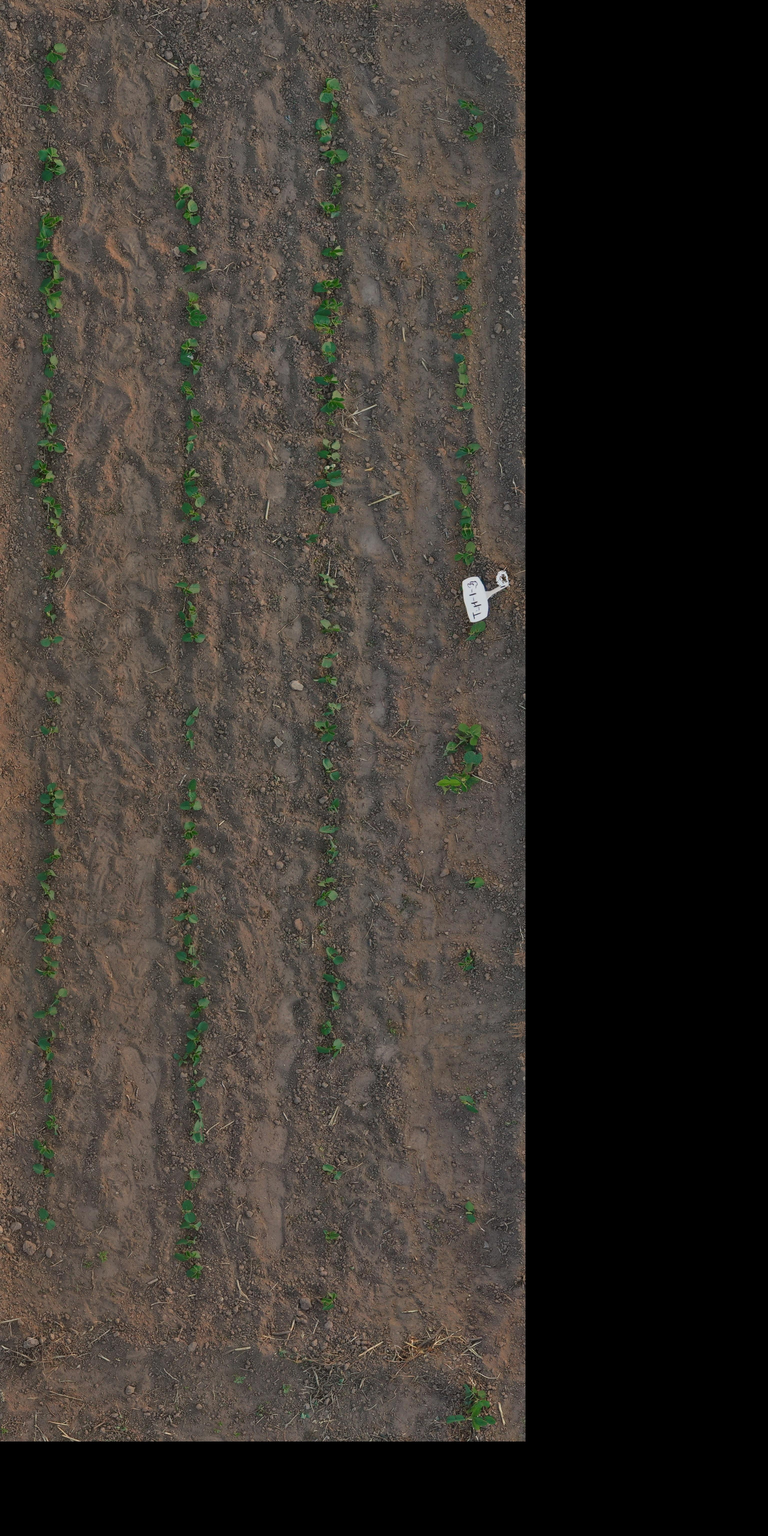s: (442, 723, 482, 757), (446, 1406, 496, 1431), (436, 768, 480, 795), (462, 1383, 491, 1414), (320, 390, 345, 417), (313, 314, 344, 335), (316, 1038, 345, 1060), (38, 286, 64, 310), (319, 77, 341, 104), (313, 469, 344, 488), (36, 250, 61, 273), (313, 720, 338, 742), (454, 541, 476, 566), (173, 184, 194, 210), (182, 199, 202, 226), (40, 807, 68, 826), (185, 304, 208, 327), (40, 268, 65, 289), (315, 298, 344, 316), (38, 146, 64, 166), (184, 485, 206, 508), (457, 98, 485, 116), (41, 162, 66, 182), (321, 757, 341, 782), (320, 148, 349, 165), (29, 470, 56, 488), (46, 42, 68, 64), (42, 496, 64, 518), (464, 620, 486, 642), (188, 998, 211, 1019), (36, 224, 54, 250), (312, 278, 343, 293), (33, 1138, 54, 1160), (315, 117, 332, 144), (39, 412, 58, 436), (175, 135, 200, 153), (179, 90, 204, 108), (322, 973, 347, 991), (39, 793, 65, 810), (320, 494, 341, 515), (180, 502, 202, 522), (43, 67, 62, 90), (180, 356, 203, 375), (38, 1207, 56, 1231), (174, 882, 199, 899), (175, 951, 200, 968), (462, 122, 483, 142), (36, 439, 66, 453), (185, 408, 204, 430), (454, 443, 480, 459), (460, 750, 483, 768), (458, 949, 476, 972), (40, 910, 57, 934), (180, 1199, 197, 1223), (180, 847, 200, 867), (189, 1119, 205, 1144), (180, 337, 199, 358), (452, 499, 473, 518), (319, 201, 342, 218), (184, 1168, 201, 1191), (187, 63, 202, 89), (454, 373, 469, 399), (174, 582, 200, 597), (459, 516, 475, 540), (186, 1024, 210, 1040), (49, 988, 68, 1008), (326, 946, 345, 966), (320, 1291, 339, 1311), (40, 389, 54, 416), (37, 1040, 55, 1061), (458, 1095, 479, 1113), (179, 112, 194, 137), (320, 619, 345, 634), (316, 890, 338, 907), (321, 341, 337, 364), (182, 468, 200, 488), (455, 271, 473, 291), (32, 1163, 56, 1178), (189, 1044, 204, 1068), (46, 516, 63, 537), (322, 1164, 343, 1181), (456, 474, 472, 496), (320, 245, 345, 259), (312, 674, 338, 687), (173, 911, 199, 924), (38, 211, 54, 232), (44, 354, 58, 378), (31, 459, 52, 475), (451, 304, 472, 320), (40, 566, 64, 580), (174, 1250, 202, 1262), (183, 260, 208, 273), (33, 1006, 58, 1019), (181, 976, 206, 989), (326, 839, 339, 864), (313, 374, 340, 386), (46, 782, 64, 800), (181, 821, 199, 839), (453, 351, 467, 374), (42, 848, 62, 864), (34, 934, 63, 945), (180, 380, 195, 401), (318, 573, 339, 588), (186, 1077, 207, 1092), (317, 450, 341, 463), (40, 634, 64, 647), (183, 934, 197, 956), (327, 990, 341, 1012), (321, 651, 339, 668), (185, 706, 200, 726), (181, 632, 206, 644), (40, 880, 55, 900), (186, 291, 200, 312), (178, 610, 194, 628), (186, 1264, 204, 1280), (46, 1114, 59, 1136), (322, 438, 341, 453), (38, 1029, 57, 1044), (186, 1034, 201, 1053), (322, 702, 342, 716), (36, 869, 59, 881), (35, 966, 58, 978), (191, 1099, 203, 1122), (187, 600, 198, 625), (174, 1236, 199, 1247), (41, 333, 54, 354), (46, 543, 67, 556), (328, 100, 339, 124), (452, 247, 474, 259), (451, 328, 473, 340), (463, 876, 485, 888), (465, 1200, 476, 1224), (185, 434, 198, 454), (183, 730, 196, 750), (43, 1078, 53, 1104), (179, 800, 202, 811), (44, 603, 56, 624), (449, 402, 474, 412), (330, 177, 343, 196), (178, 244, 198, 256), (187, 778, 197, 802), (46, 215, 64, 228), (317, 876, 338, 887), (46, 690, 61, 705), (326, 798, 340, 814), (456, 200, 478, 210), (180, 1221, 202, 1231), (42, 956, 60, 968), (38, 103, 59, 113), (319, 824, 340, 834), (180, 533, 199, 544), (320, 1020, 333, 1036), (40, 725, 59, 735), (47, 306, 61, 319)
